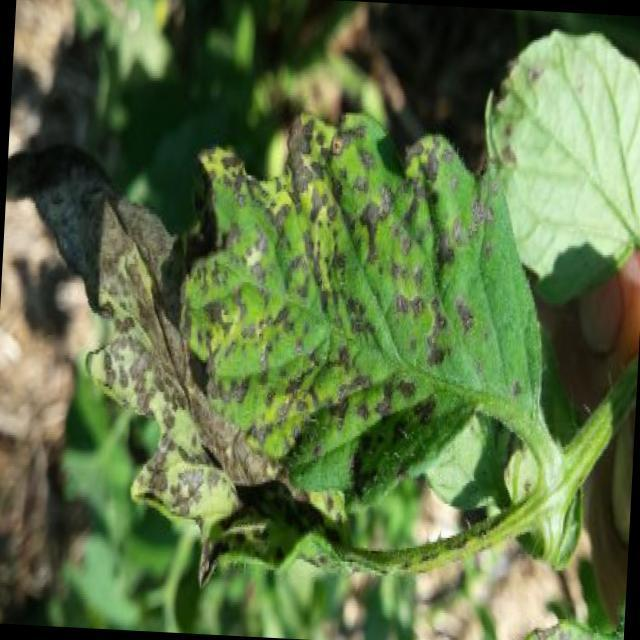Septoria: (175, 128, 498, 492)
